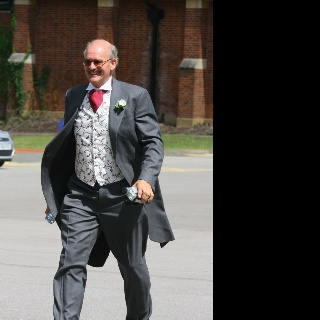without_mask: (83, 47, 110, 83)
